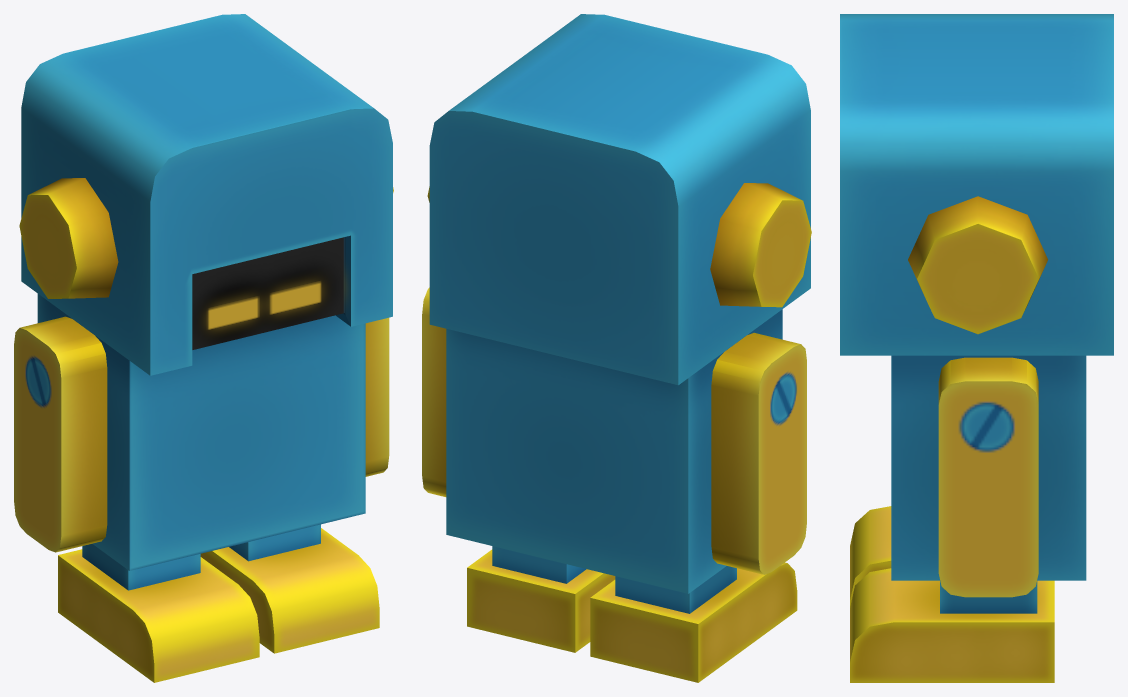
Rendered from ENV2010116.fbx.
3 renders of one model, left to right at view 1: azimuth 30°, elevation 25°; view 2: azimuth 150°, elevation 25°; view 3: azimuth 270°, elevation 25°, orthographic. The views are drawn at different scales.
Parts seen in each view (by area): view 1: smENV2010116; view 2: smENV2010116; view 3: smENV2010116.
Boxes of the visible parts, x1=… form: smENV2010116: x1=14, y1=14, x2=393, y2=682; smENV2010116: x1=422, y1=14, x2=811, y2=682; smENV2010116: x1=840, y1=14, x2=1113, y2=682.
Bounding box in the file's own units: 12.25 × 18.92 × 8.35.
Materials: 1 (1 with a texture image).
